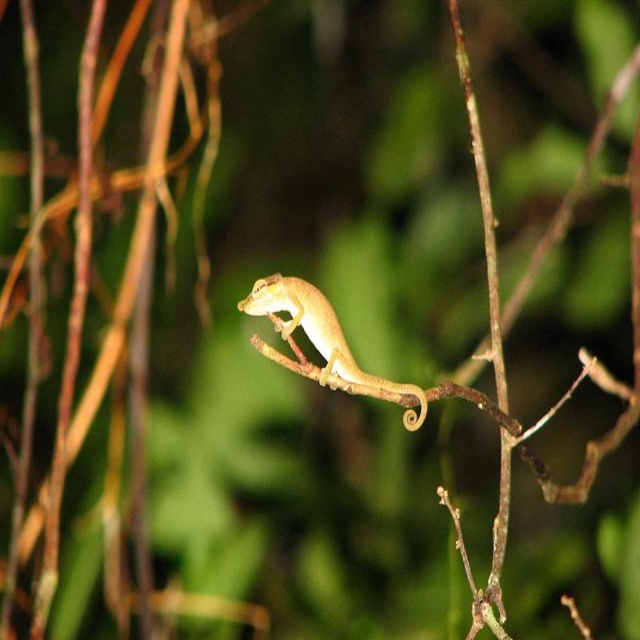Lizard: (235, 261, 412, 421)
